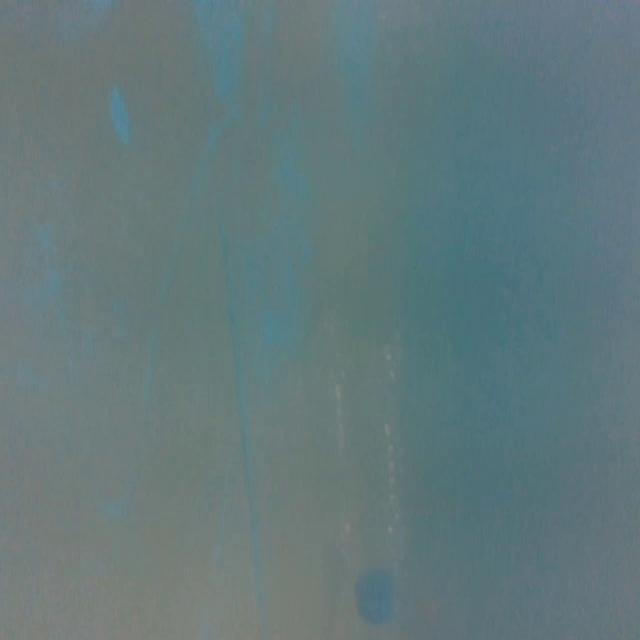plastic bottle: (321, 329, 416, 628)
